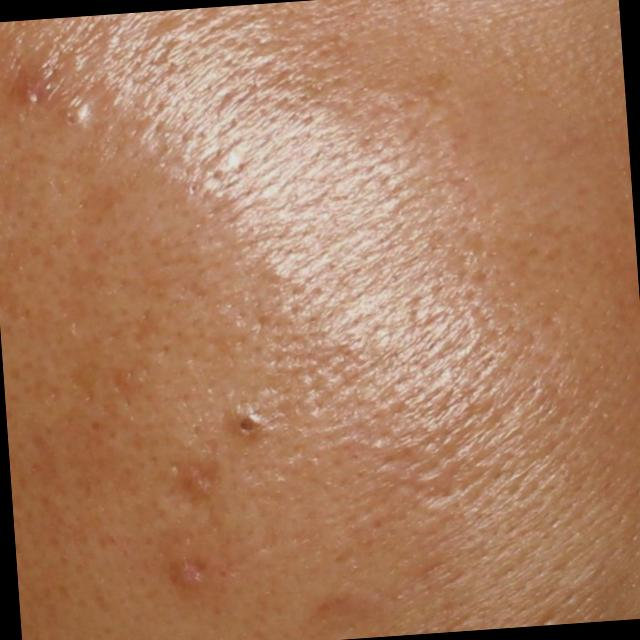blackhead: (240, 418, 253, 431), (213, 170, 223, 179), (68, 115, 79, 123)
